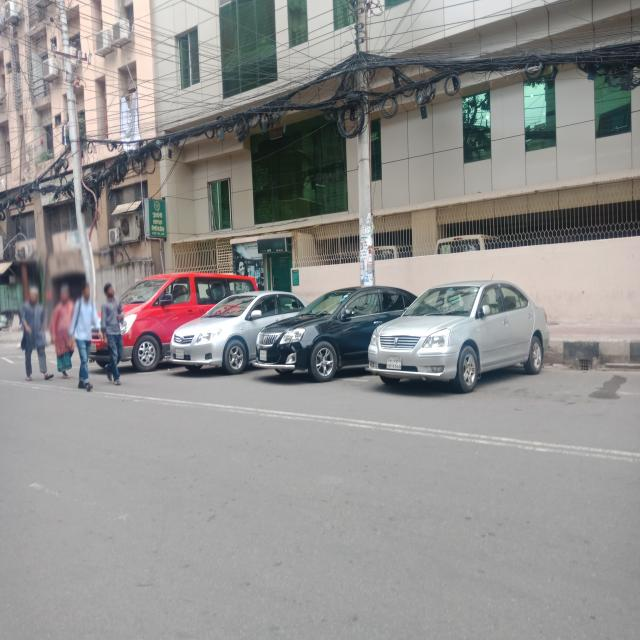car: (367, 274, 556, 395), (257, 279, 387, 376), (175, 288, 261, 379)
microbus: (101, 266, 186, 366)
